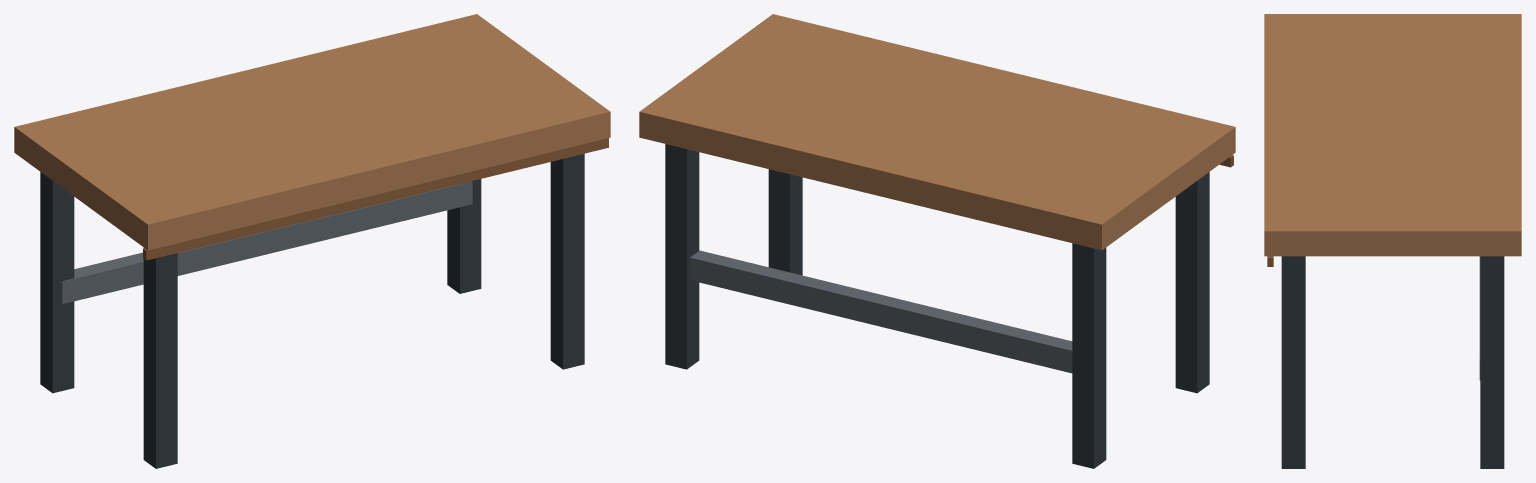
File: mesa.obj
3 renders of one model, left to right at view 1: azimuth 30°, elevation 25°; view 2: azimuth 150°, elevation 25°; view 3: azimuth 270°, elevation 25°, orthographic. The views are drawn at different scales.
Visible parts, largest first — view 1: Mesa__Tampo, Mesa__Perna, Mesa__Travessa, Mesa__Borda; view 2: Mesa__Tampo, Mesa__Perna, Mesa__Travessa; view 3: Mesa__Tampo, Mesa__Perna.
Part boxes in pixels (x1=…): Mesa__Tampo: x1=14, y1=14, x2=610, y2=250; Mesa__Perna: x1=40, y1=153, x2=584, y2=468; Mesa__Travessa: x1=62, y1=181, x2=472, y2=304; Mesa__Borda: x1=143, y1=138, x2=608, y2=260; Mesa__Tampo: x1=639, y1=14, x2=1235, y2=250; Mesa__Perna: x1=665, y1=144, x2=1209, y2=468; Mesa__Travessa: x1=690, y1=250, x2=1072, y2=373; Mesa__Tampo: x1=1264, y1=14, x2=1521, y2=256; Mesa__Perna: x1=1281, y1=256, x2=1504, y2=468.
Size of the model in its own units: 1.5 by 0.79 by 0.75.
